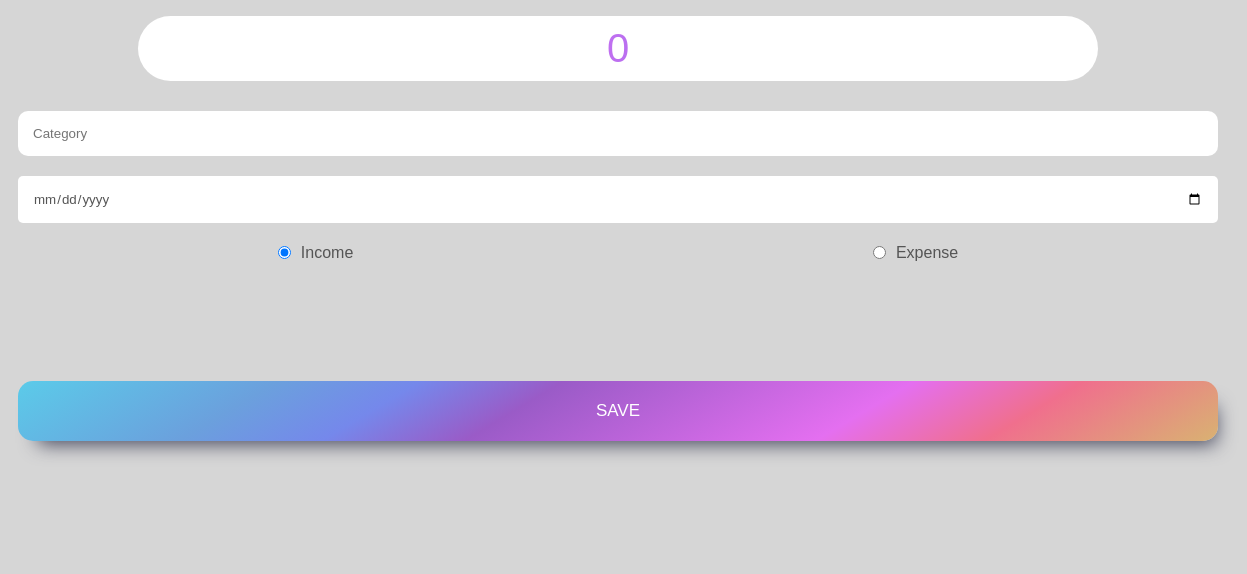
Scenario: AddExpenseForm tests - invalid › shows error message in category label when too short value
Type "a" into the field with placeholder "Category".
click(618, 133); type("a")  # box [18,111,1218,156]
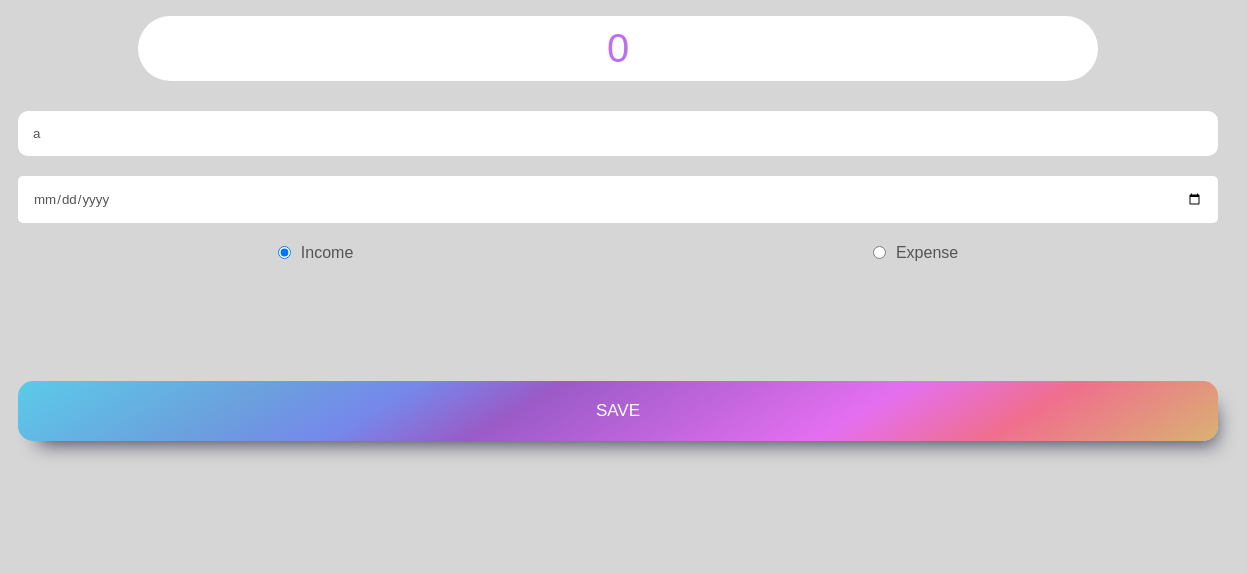
Click the button.
click(618, 411)  # box [18,381,1218,441]
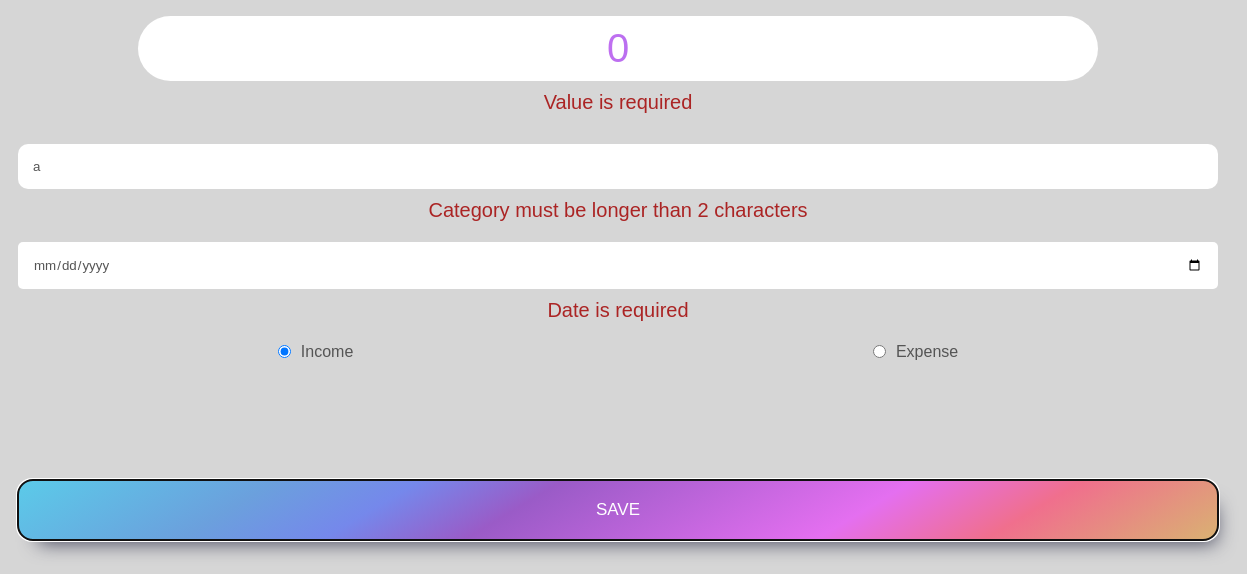
Result: the text "Category must be longer than 2 characters" is shown at [428,199,808,221]
